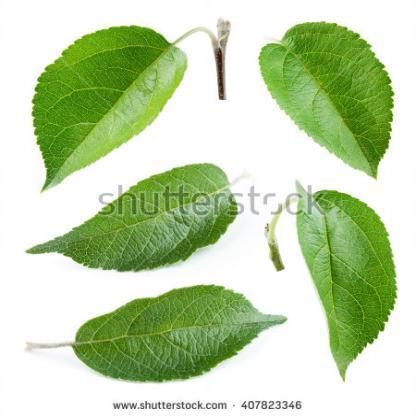Apple leaf: (16, 9, 196, 197), (240, 20, 415, 180), (42, 162, 246, 281), (288, 184, 404, 385), (66, 285, 295, 386)
